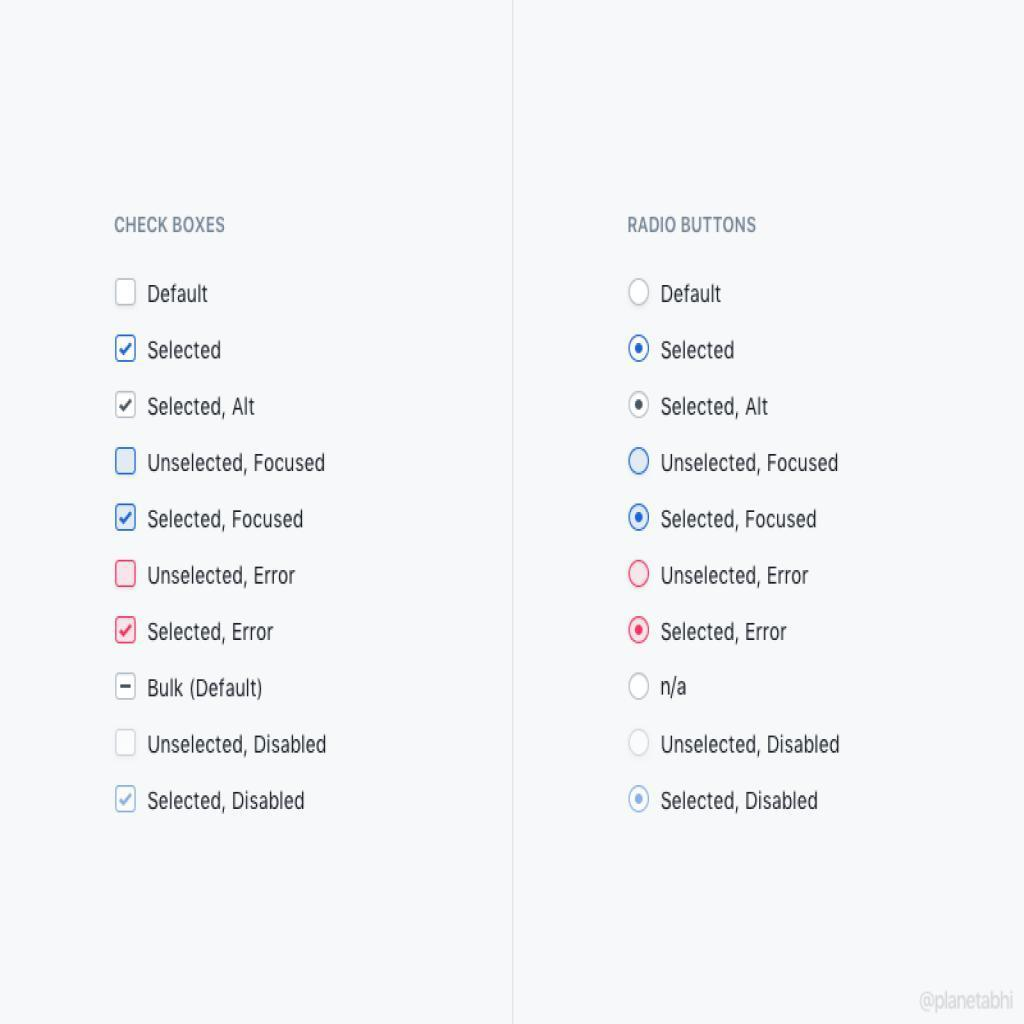checkbox: (117, 449, 137, 476), (117, 505, 137, 532), (117, 786, 136, 813), (117, 393, 137, 418), (117, 335, 136, 361), (117, 562, 136, 588), (117, 730, 136, 756), (117, 619, 137, 643), (118, 280, 137, 305), (117, 675, 136, 700)
label: (661, 730, 844, 759), (146, 732, 328, 760), (148, 450, 329, 475), (663, 451, 842, 476), (659, 562, 813, 591), (662, 789, 822, 815), (660, 509, 820, 534), (148, 509, 306, 534), (149, 565, 297, 591), (659, 618, 791, 646), (146, 789, 310, 811), (147, 620, 276, 647), (146, 675, 266, 704), (662, 394, 771, 425), (114, 213, 229, 242), (144, 394, 261, 419), (660, 338, 738, 365), (149, 338, 227, 363), (662, 283, 725, 307), (148, 284, 212, 307), (656, 677, 694, 702)
radio: (626, 784, 653, 816), (627, 278, 653, 309), (626, 446, 652, 476), (627, 673, 653, 703), (627, 503, 653, 532), (629, 335, 653, 366), (629, 560, 652, 591), (628, 391, 652, 420), (628, 729, 652, 758), (629, 617, 652, 646)
